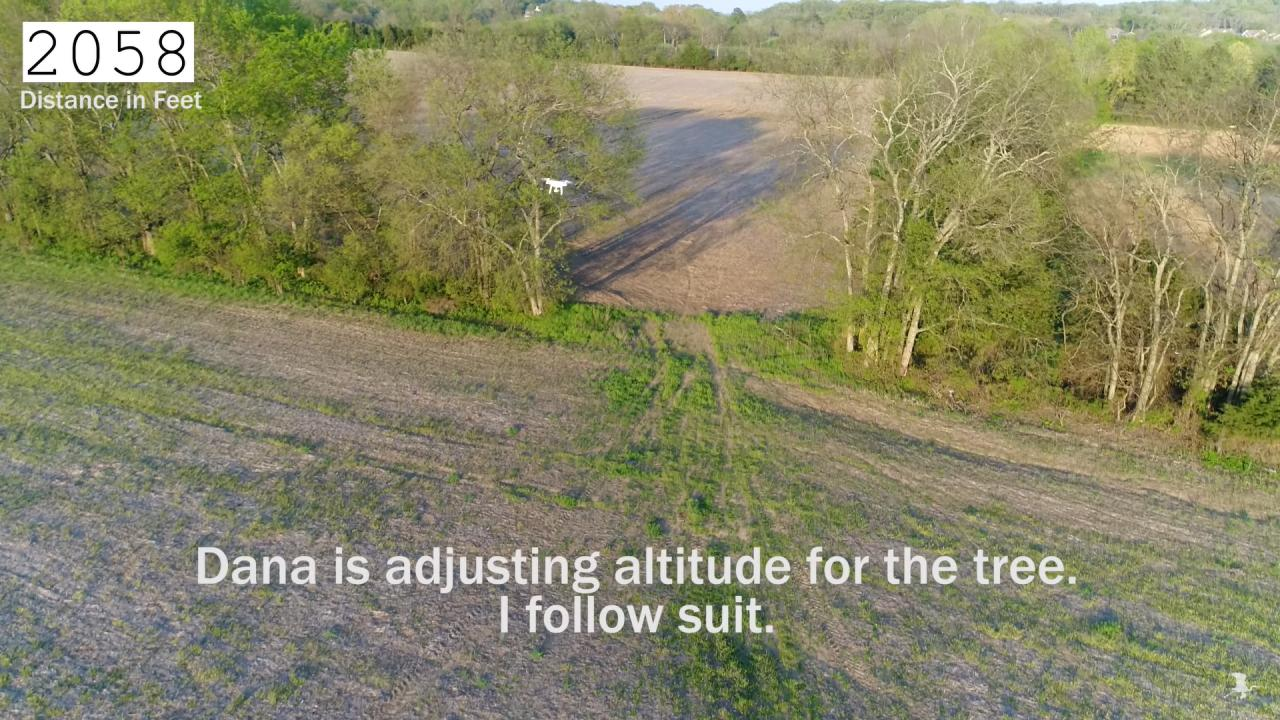Drone: (534, 169, 578, 202)
